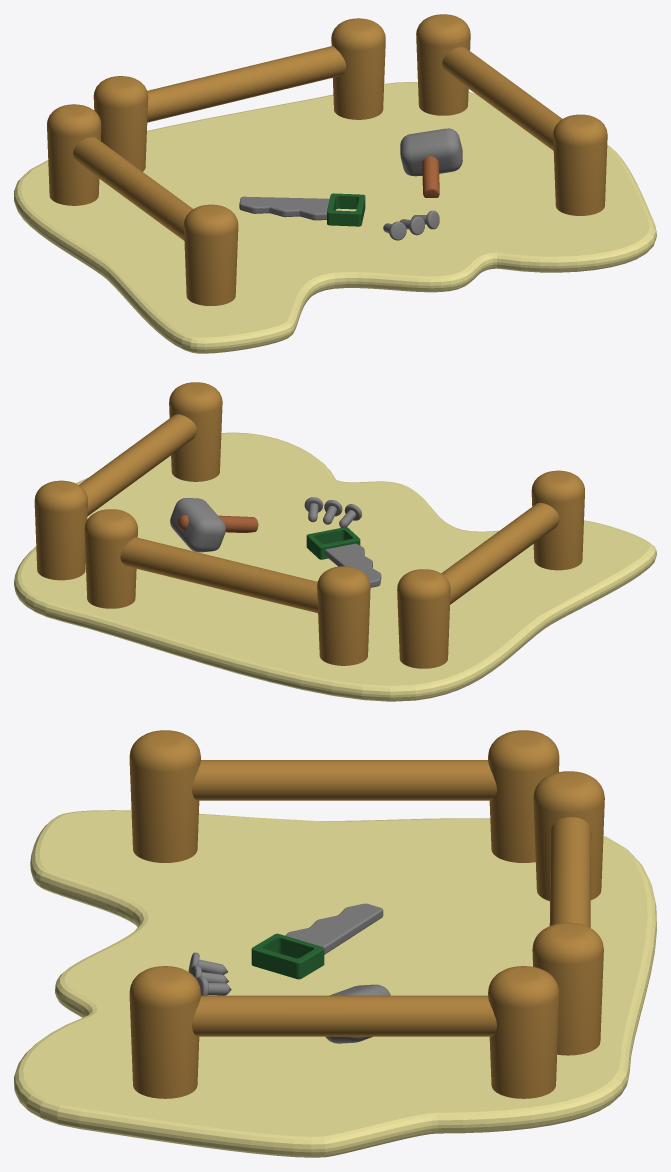
The model's file is building baseup.fbx.
The picture shows the model from 3 angles, top to bottom: view 1: azimuth 30°, elevation 25°; view 2: azimuth 150°, elevation 25°; view 3: azimuth 270°, elevation 25°; orthographic projection. The views are drawn at different scales.
Parts seen in each view (by area): view 1: Cylinder.055; view 2: Cylinder.055; view 3: Cylinder.055.
Part boxes in pixels (box(x1,y1,x2,y2)): Cylinder.055: box(14, 14, 656, 353); Cylinder.055: box(14, 382, 656, 701); Cylinder.055: box(14, 730, 656, 1157).
Bounding box in the file's own units: 25010 × 4579 × 20360.
